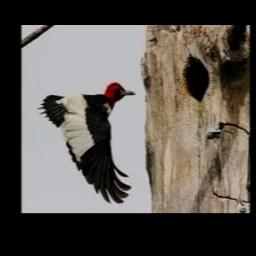Woodpecker: (37, 82, 135, 204)
